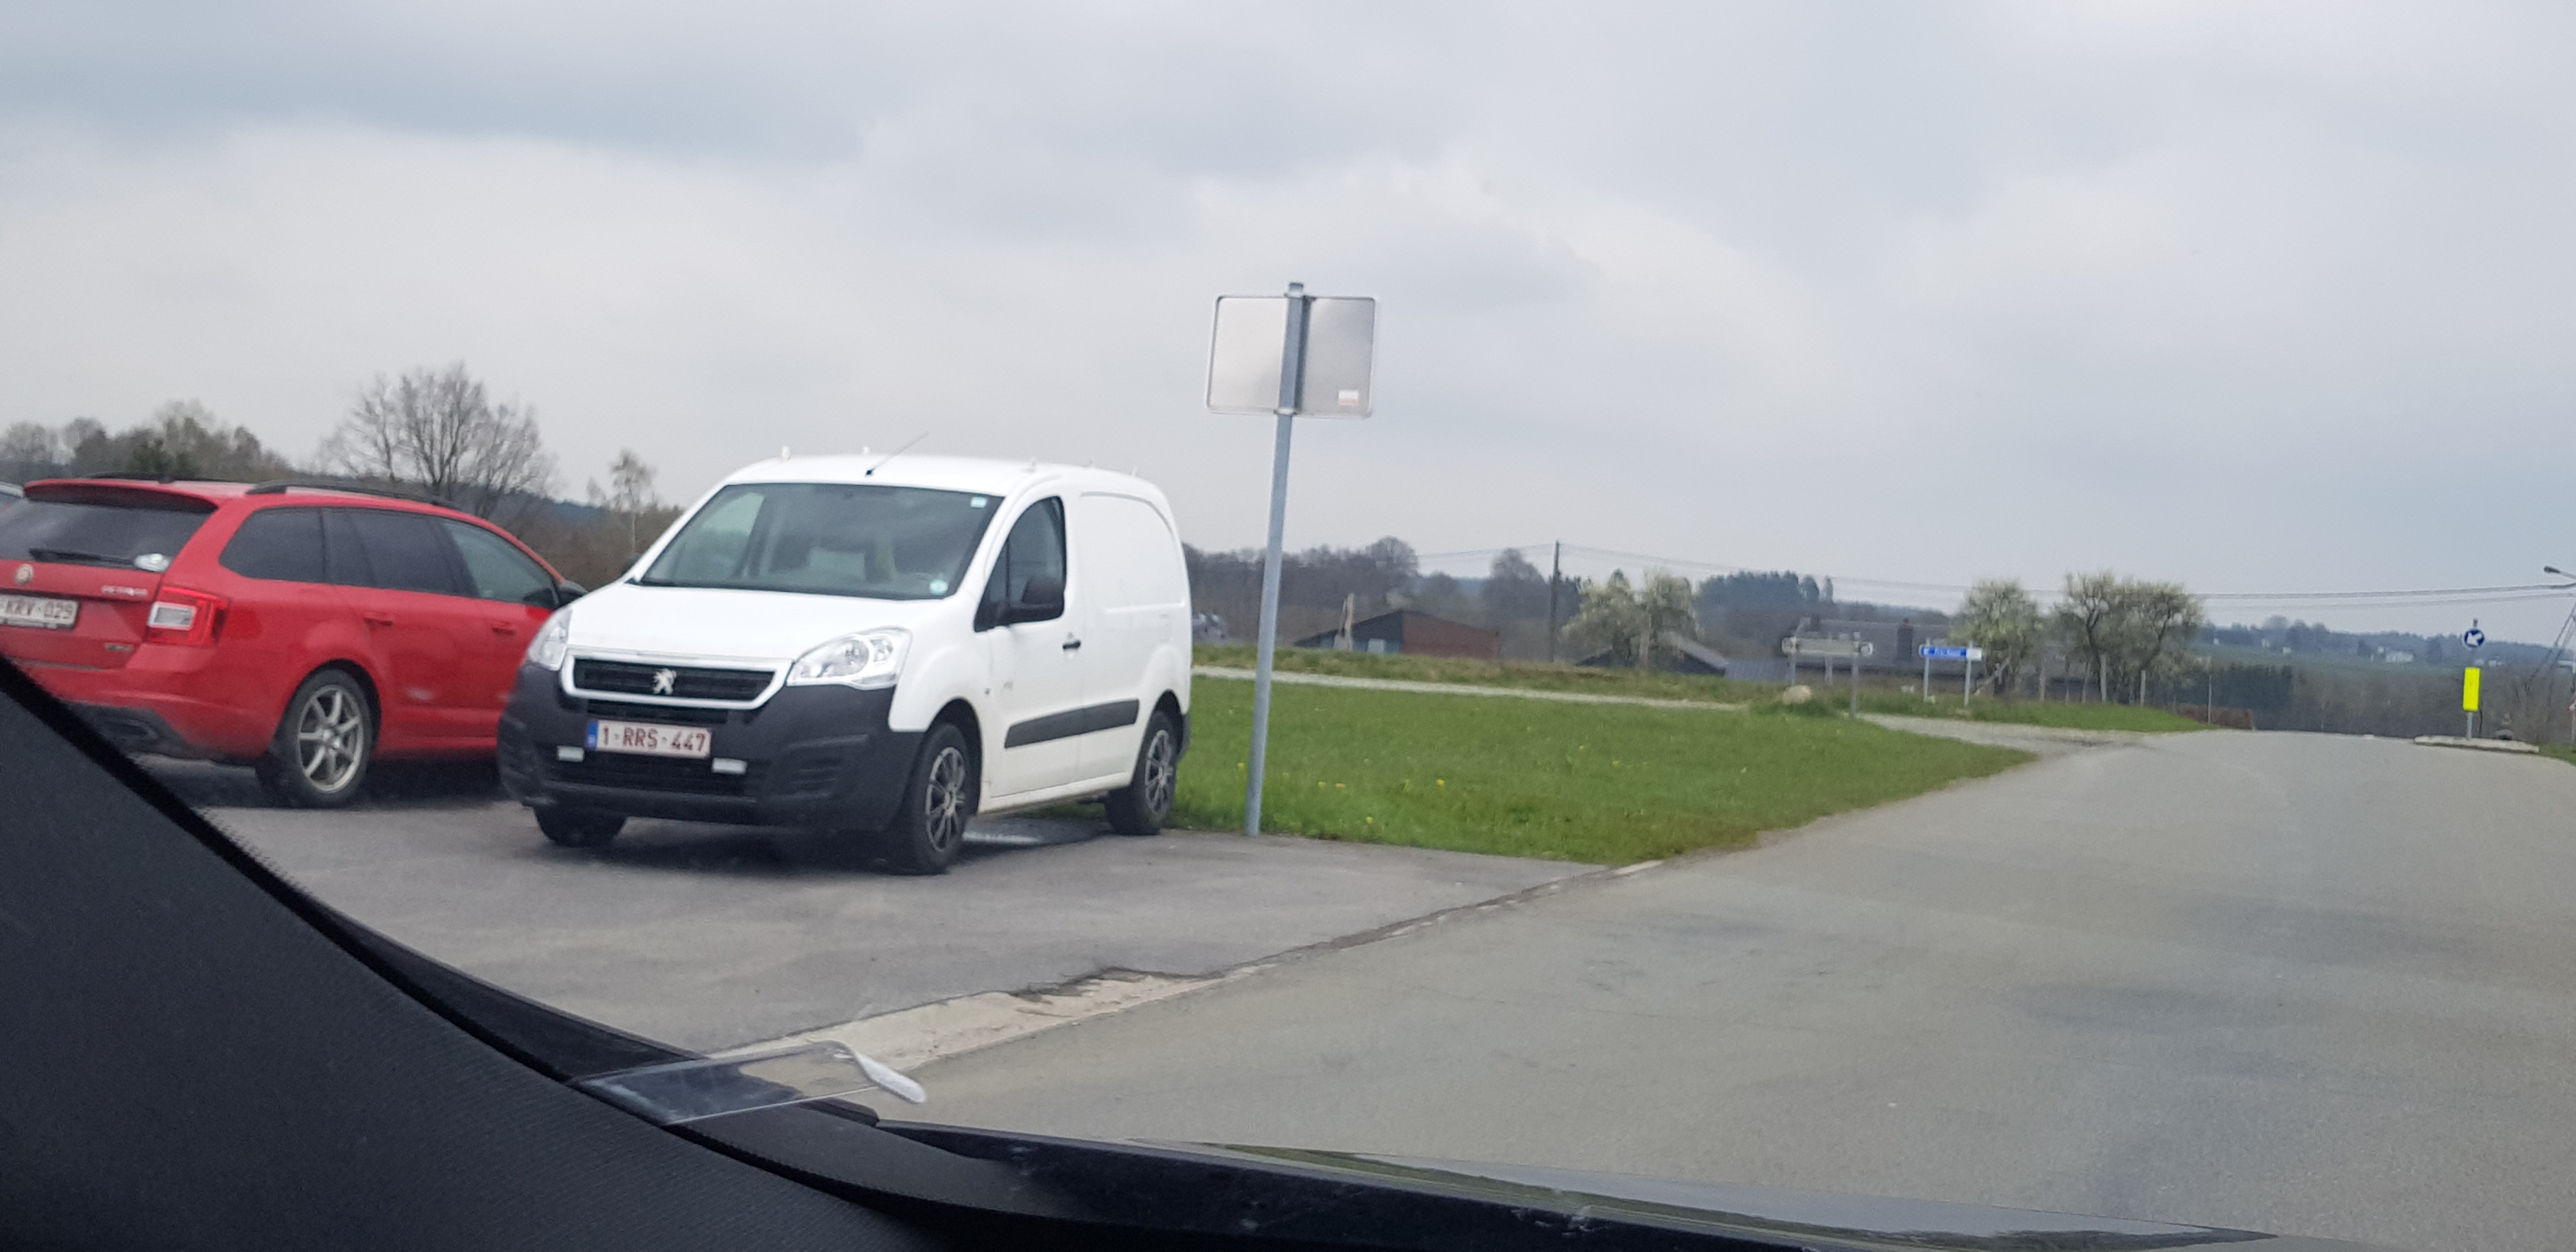licenceplate: (581, 718, 712, 760), (1, 598, 81, 622)
